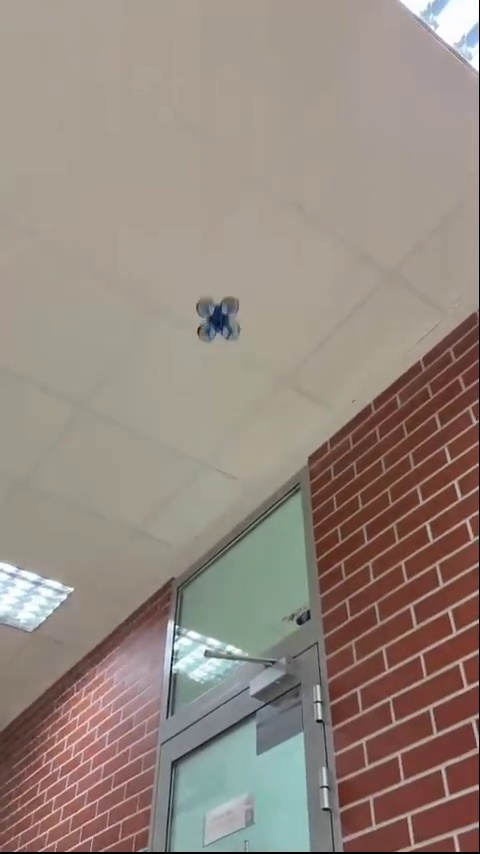drone: (192, 297, 242, 345)
